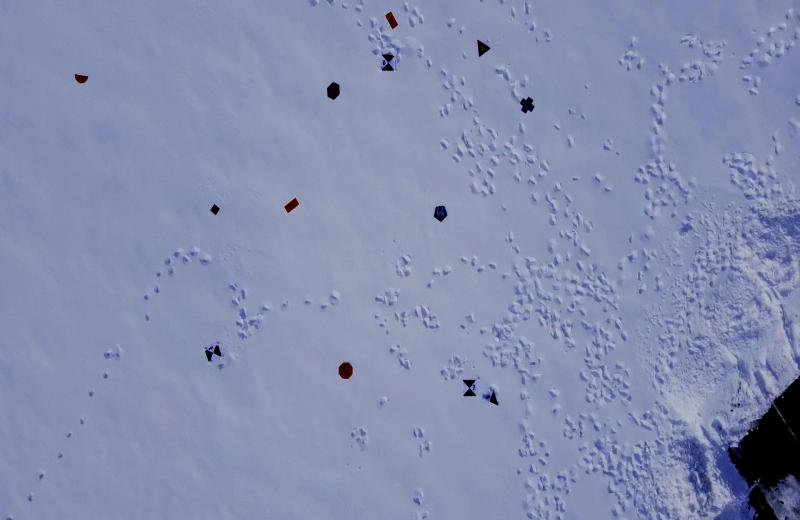Cross: (520, 96, 536, 114)
Hexagon: (326, 81, 342, 99)
Octagon: (338, 361, 354, 379)
Pentagon: (434, 204, 450, 222)
Rectangle: (284, 196, 299, 214), (384, 12, 398, 29)
Semi Circle: (74, 74, 90, 85)
Square: (210, 203, 220, 215)
Triangle: (476, 37, 491, 57)
